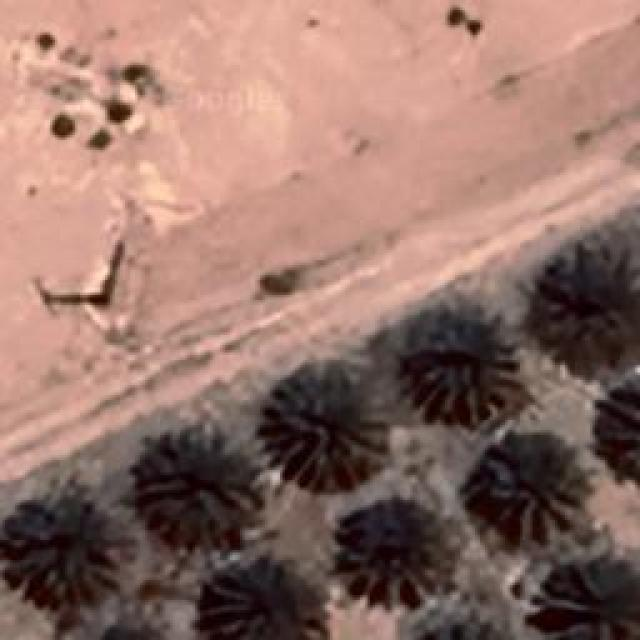PalmTree: (262, 380, 390, 490), (132, 420, 266, 522), (0, 494, 120, 604), (332, 500, 448, 610), (535, 249, 640, 369), (410, 328, 522, 422), (480, 442, 582, 540), (196, 567, 331, 640), (534, 562, 638, 636), (590, 385, 640, 480), (395, 609, 515, 640)
